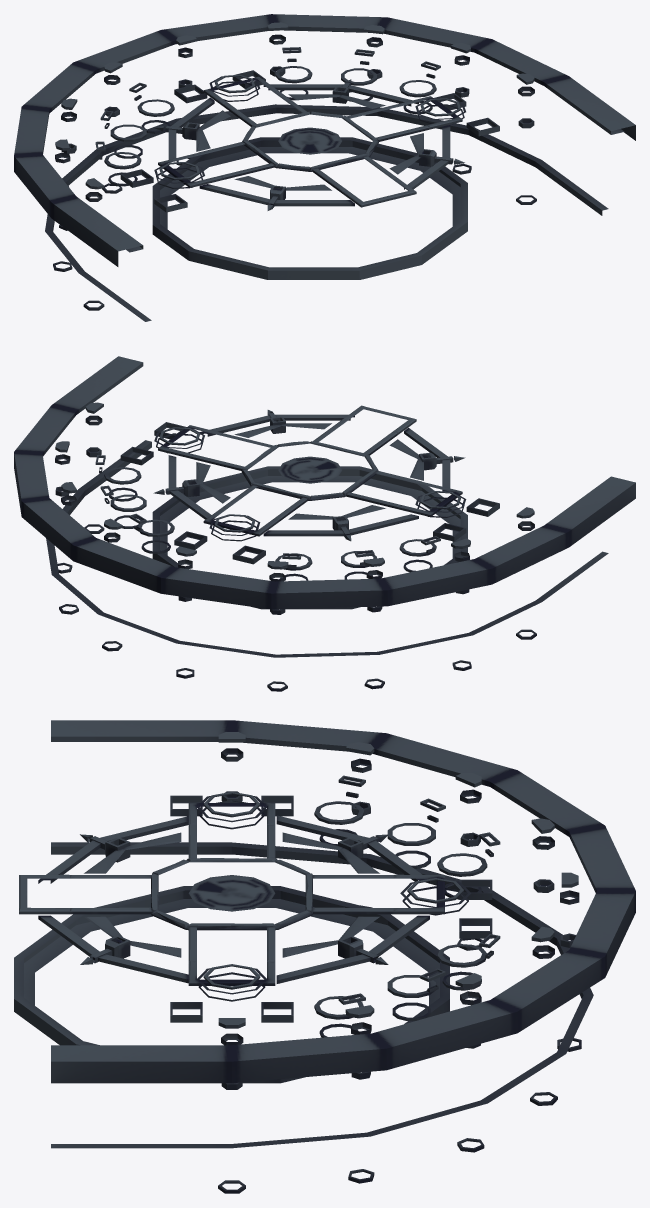
The model's file is Ground_04.FBX.
3 views of the same model, one above another, from view 1: azimuth 30°, elevation 25°; view 2: azimuth 150°, elevation 25°; view 3: azimuth 270°, elevation 25° (orthographic). The views are drawn at different scales.
Visible parts, largest first — view 1: Ground_04; view 2: Ground_04; view 3: Ground_04.
Boxes of the visible parts, left/top/right/bottom form: Ground_04: left=14, top=14, right=635, bottom=321; Ground_04: left=14, top=356, right=635, bottom=691; Ground_04: left=14, top=720, right=635, bottom=1193.
Bounding box in the file's own units: 53.12 × 12.15 × 40.89.
